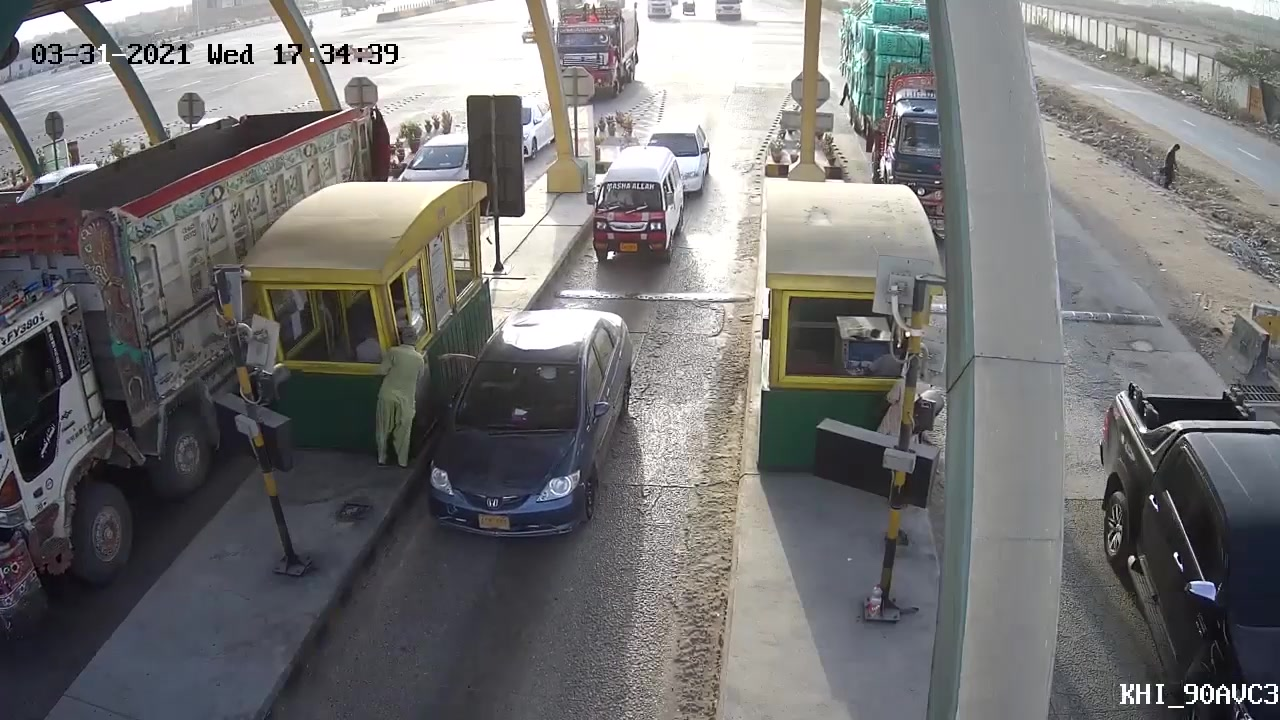F1: (425, 304, 635, 535)
